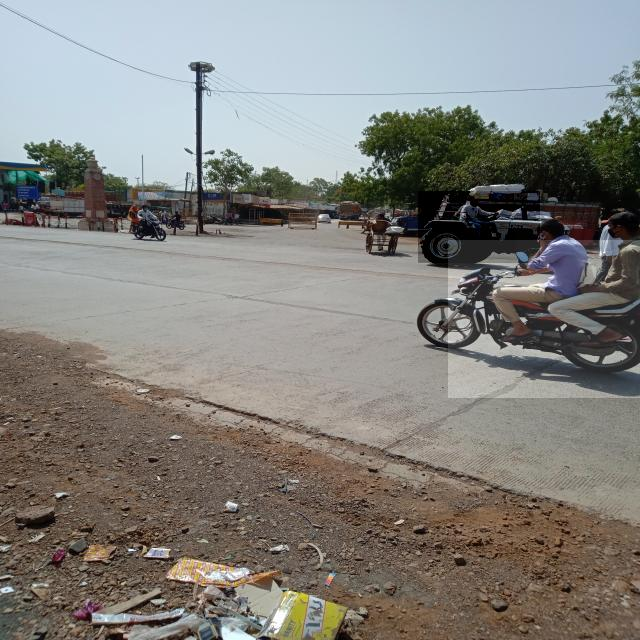Bike: (448, 240, 640, 398)
No_Helmet: (516, 210, 580, 254)
Tractot: (418, 191, 540, 263)
